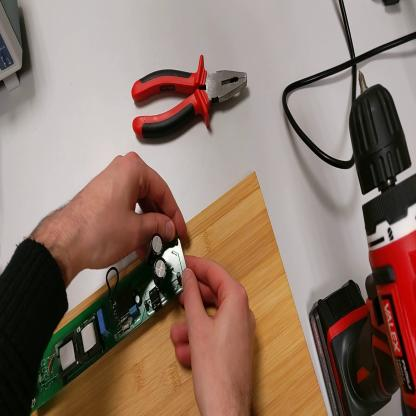electric screwdriver: (310, 72, 416, 416)
hand: (59, 152, 187, 270), (171, 254, 256, 416)
high voltage board: (33, 229, 189, 412)
oscilloscope: (1, 1, 24, 92)
pliers: (132, 56, 250, 148)
welder base: (383, 1, 400, 12)
working area: (32, 173, 328, 416)
